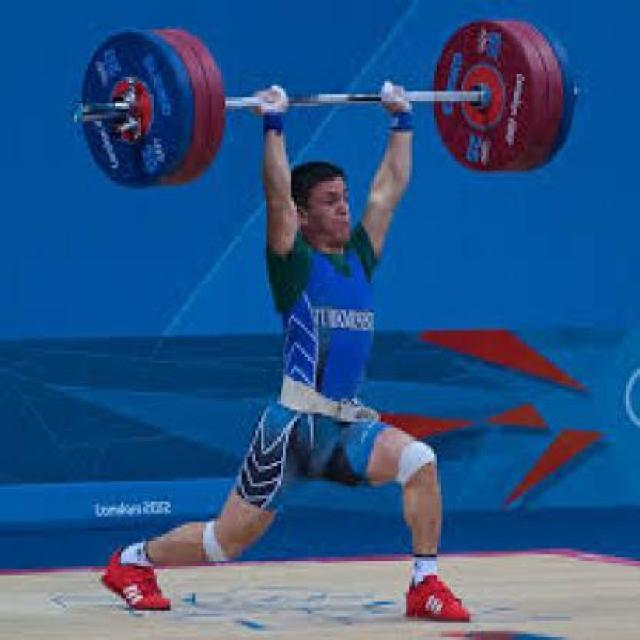barbell: (429, 13, 585, 187), (73, 25, 206, 196)
